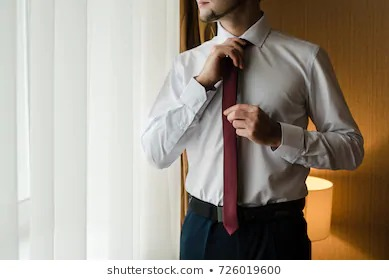F_shirt: (136, 2, 364, 260)
F_tie: (222, 37, 242, 228)
